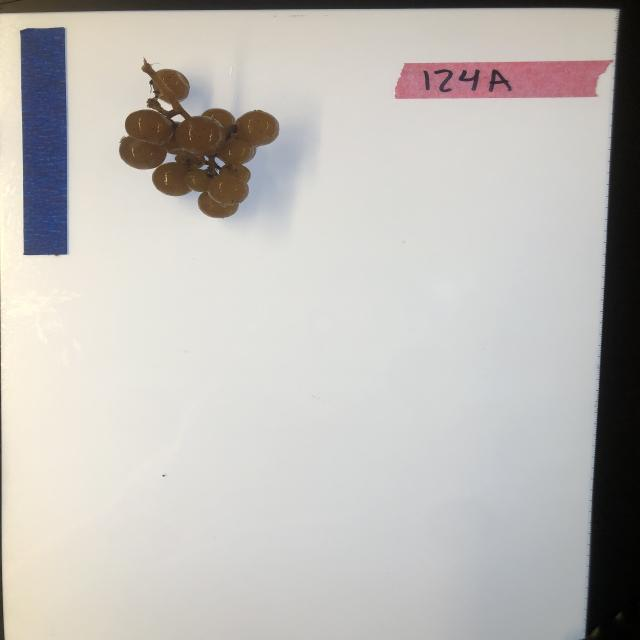grape_cluster: (113, 56, 284, 221)
index: (394, 61, 610, 101)
measure_label: (18, 26, 72, 258)
